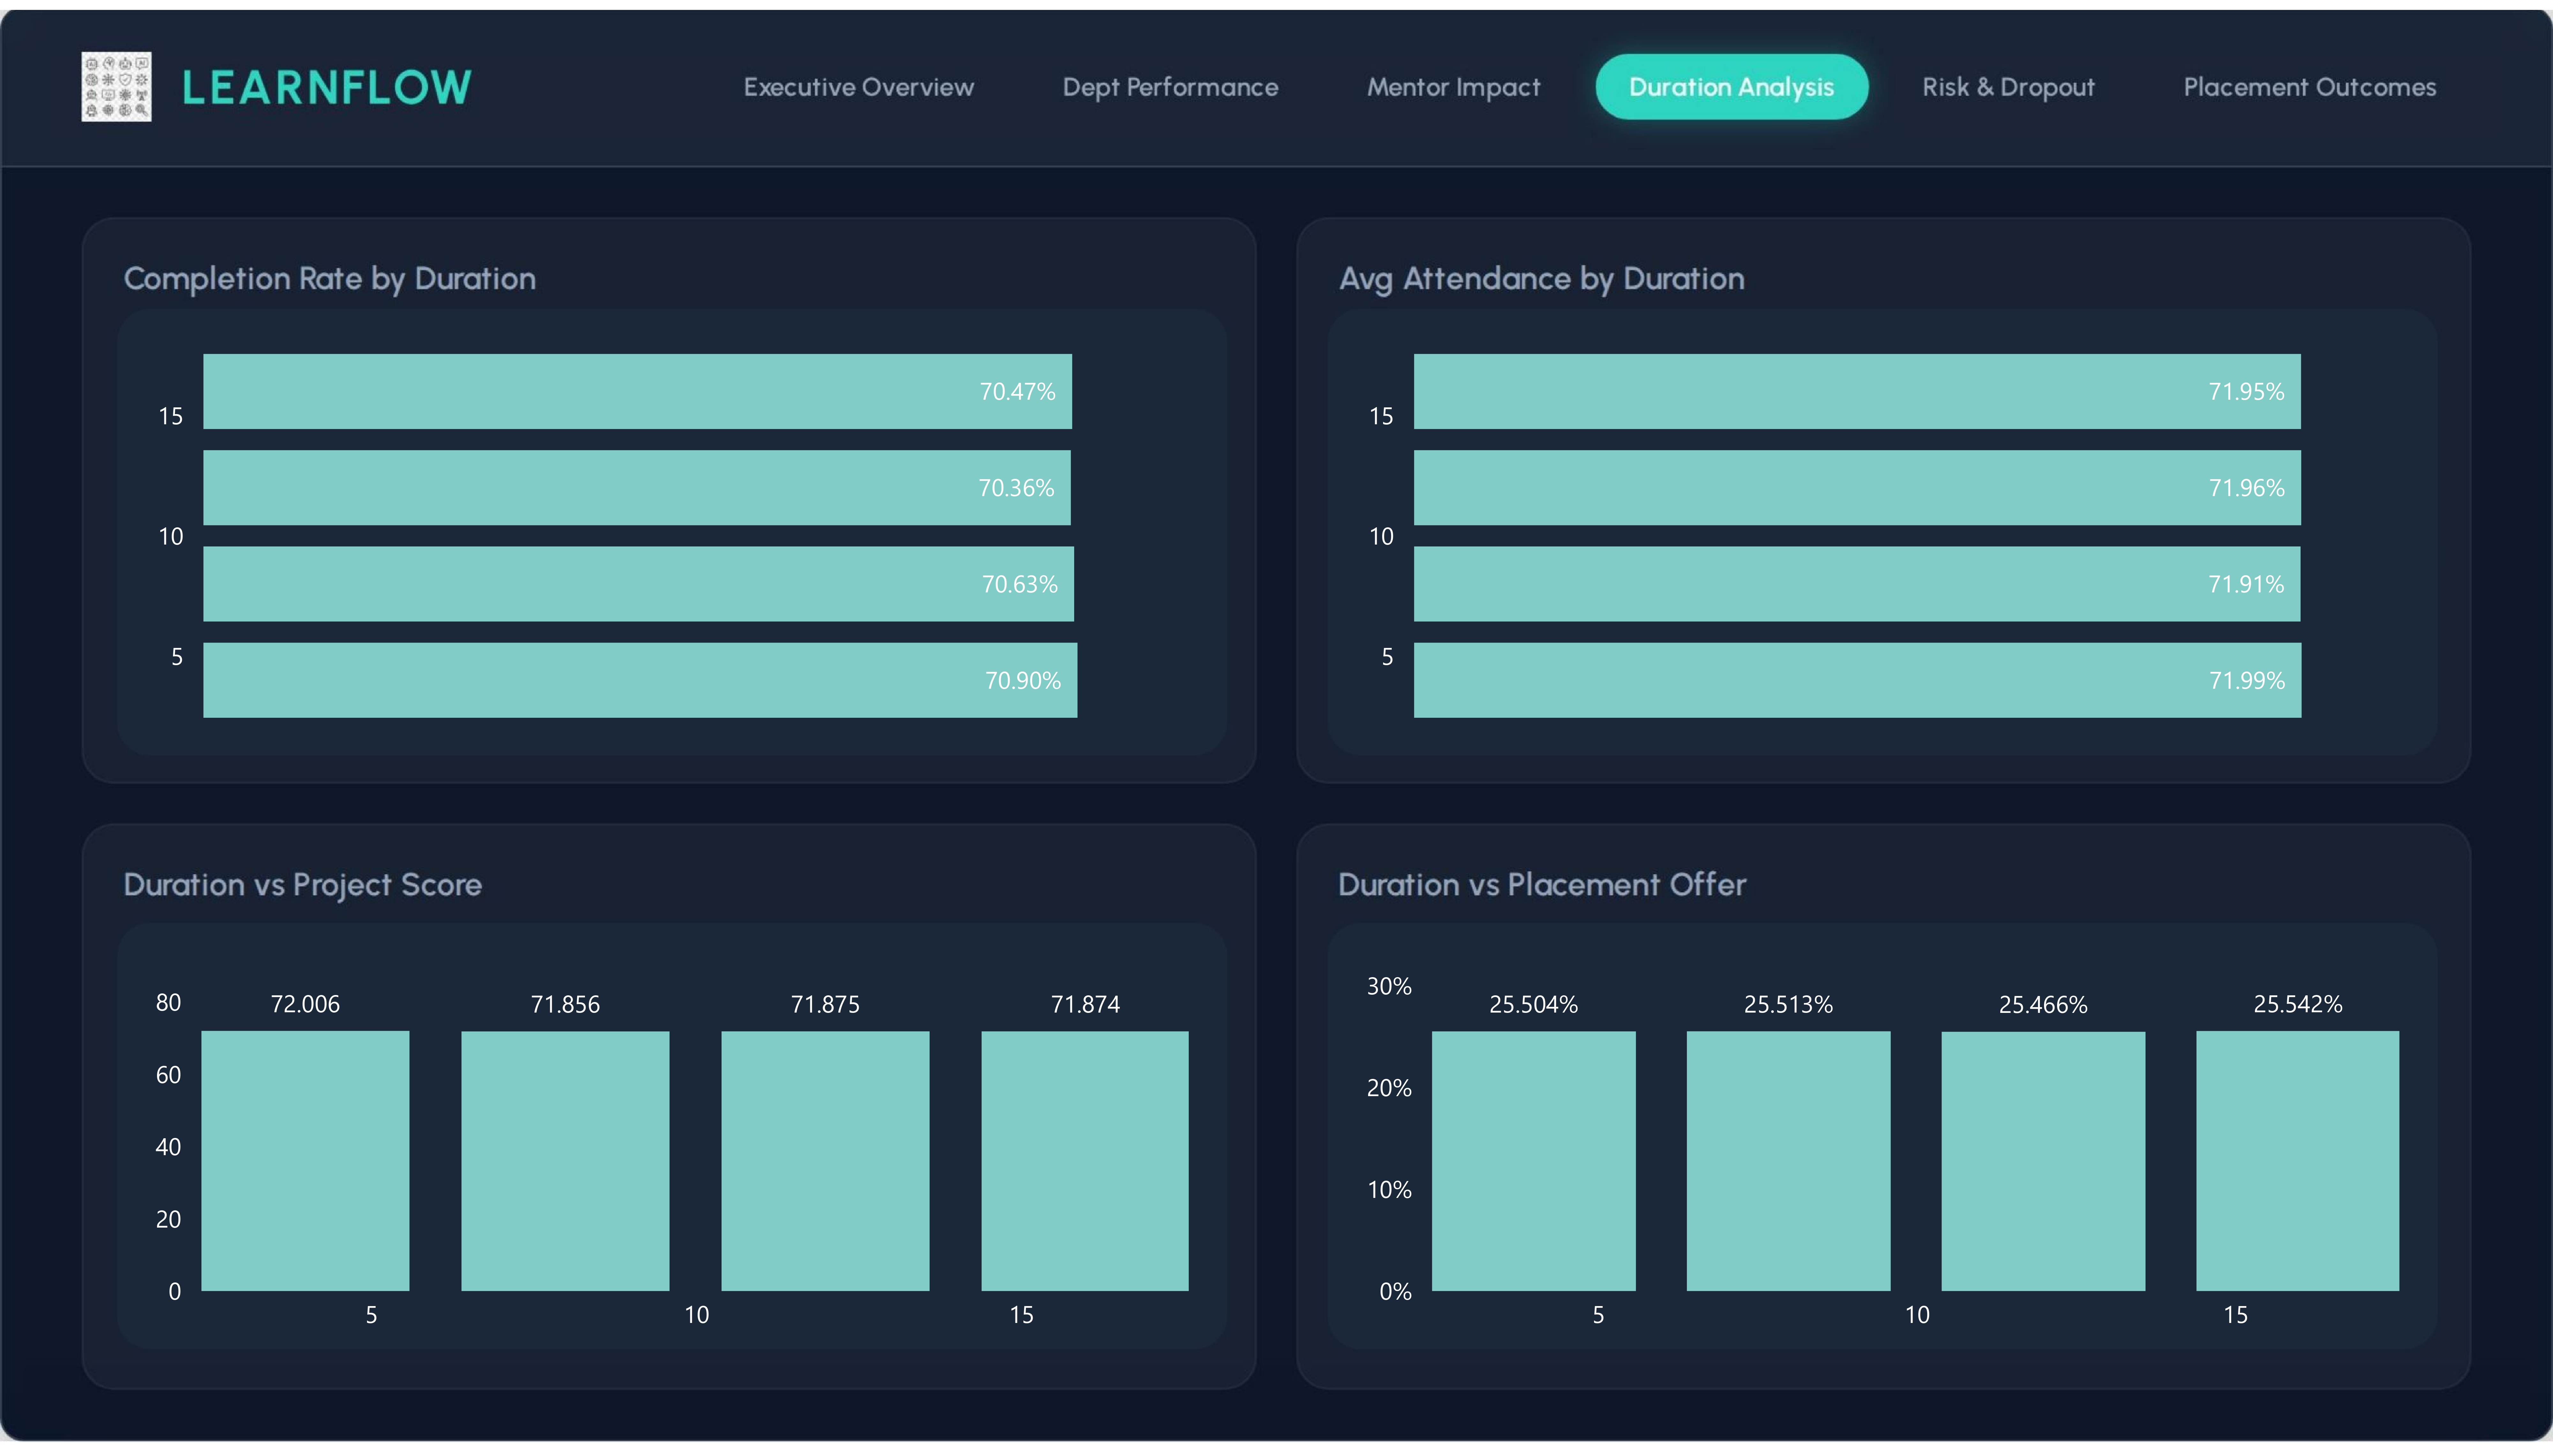

The dashboard page shown, as its layout file describes it:
{"tool":"powerbi","page":{"name":"Duration Analysis","canvas":[1280,720],"ordinal":3},"visuals":[{"type":"barChart","fields":{"Category":["internship_data.Duration_Weeks"],"Y":["internship_data.Completion Rate"]},"box":[72.7,159,528.5,201.4],"z":0},{"type":"barChart","fields":{"Category":["internship_data.Duration_Weeks"],"Y":["internship_data.Avg Attendance"]},"box":[679.9,159,528.5,201.4],"z":1000},{"type":"clusteredColumnChart","fields":{"Category":["internship_data.Duration_Weeks"],"Y":["Avg(internship_data.Final_Project_Score)"]},"box":[72.7,473.9,528.5,198.4],"z":2000},{"type":"clusteredColumnChart","fields":{"Category":["internship_data.Duration_Weeks"],"Y":["internship_data.Placement Rate"]},"box":[679.9,473.9,528.5,198.4],"z":3000}]}

Visuals, with their boxes on the page's 1280x720 design canvas (x1, y1, x2, y2). These are canvas units, not pixel positions in the 2553x1456 screenshot, which may show the page scaled, cropped or inside an application window:
barChart - internship_data.Duration_Weeks x internship_data.Completion Rate: <region>73, 159, 601, 360</region>
barChart - internship_data.Duration_Weeks x internship_data.Avg Attendance: <region>680, 159, 1208, 360</region>
clusteredColumnChart - internship_data.Duration_Weeks x Avg(internship_data.Final_Project_Score): <region>73, 474, 601, 672</region>
clusteredColumnChart - internship_data.Duration_Weeks x internship_data.Placement Rate: <region>680, 474, 1208, 672</region>
